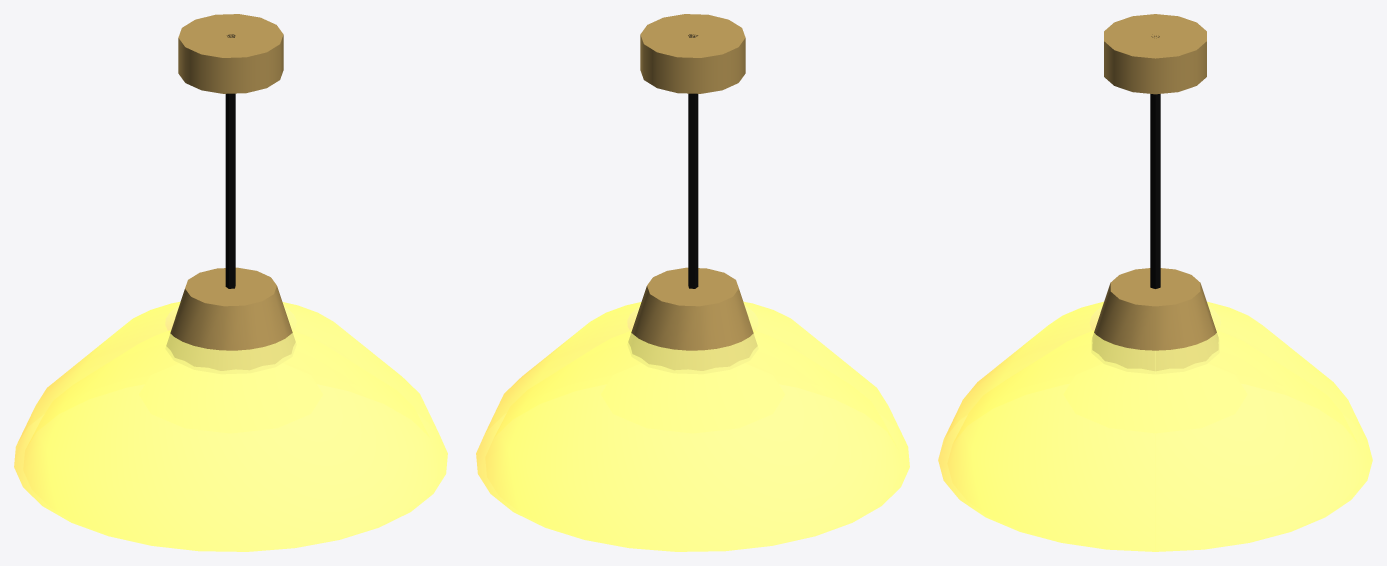
Rendered from rest-pendant-amber.glb.
The picture shows the model from 3 angles, left to right: view 1: azimuth 30°, elevation 25°; view 2: azimuth 150°, elevation 25°; view 3: azimuth 270°, elevation 25°; orthographic projection.
Visible parts, largest first — view 1: shade__amber, cap__brass, cord__rubber; view 2: shade__amber, cap__brass, cord__rubber; view 3: shade__amber, cap__brass, cord__rubber.
Part boxes in pixels (x1,y1,x2,y2): shade__amber: [14, 301, 447, 551]; cap__brass: [166, 14, 295, 370]; cord__rubber: [225, 34, 235, 288]; shade__amber: [476, 301, 909, 551]; cap__brass: [628, 14, 757, 370]; cord__rubber: [688, 34, 698, 288]; shade__amber: [938, 301, 1372, 551]; cap__brass: [1092, 14, 1218, 370]; cord__rubber: [1150, 36, 1160, 288].
Bounding box in the file's own units: 0.33 × 0.358 × 0.33.
